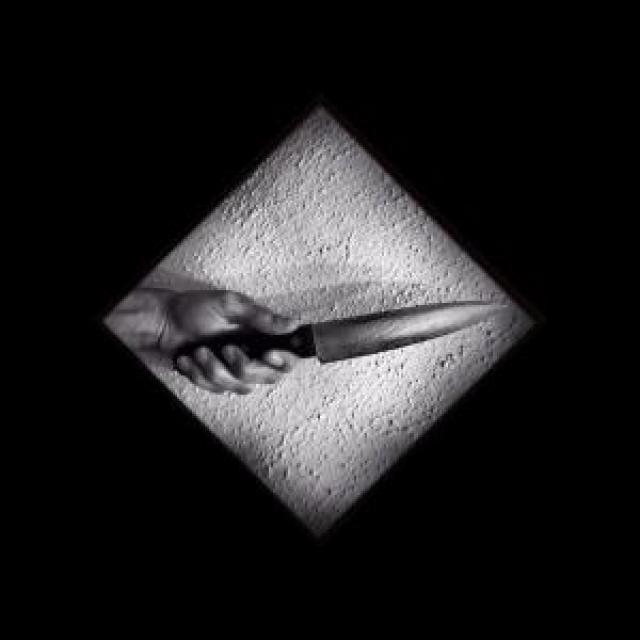knife: (164, 294, 509, 379)
